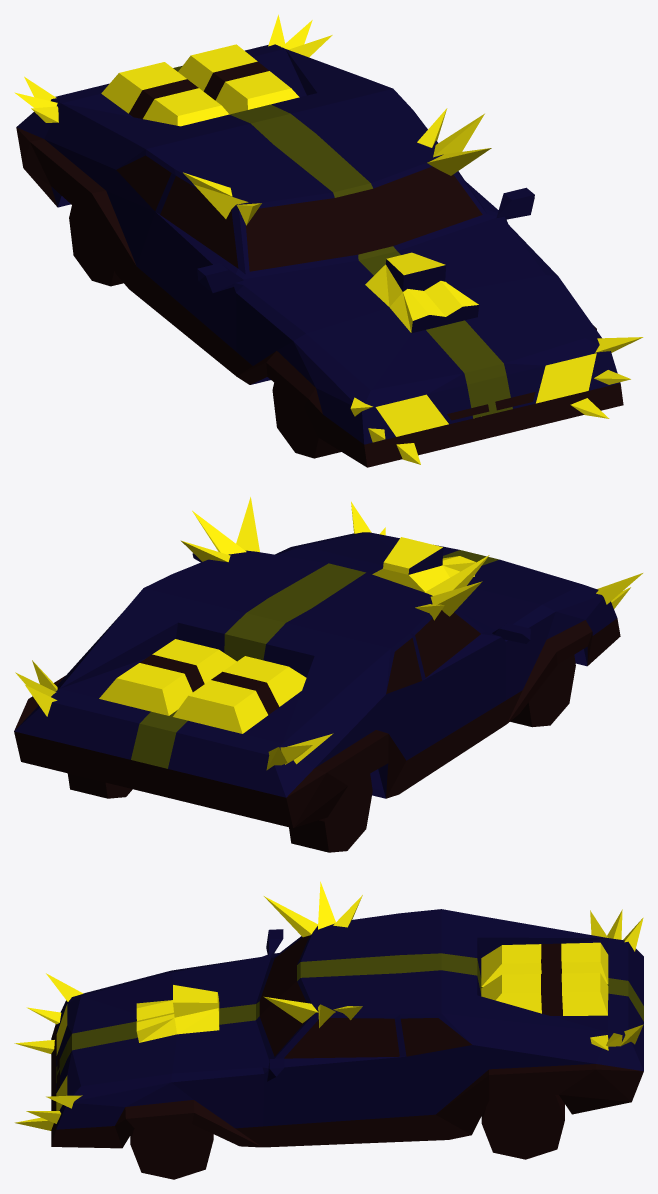
File: car.fbx
3 renders of one model, top to bottom at view 1: azimuth 30°, elevation 25°; view 2: azimuth 150°, elevation 25°; view 3: azimuth 270°, elevation 25°, orthographic. The views are drawn at different scales.
Visible parts, largest first — view 1: car, spikes, wheels; view 2: car, wheels, spikes; view 3: car, wheels, spikes.
Boxes of the visible parts, box(x1,y1,x2,y2) form: car: box(16, 44, 623, 467); spikes: box(14, 14, 643, 464); wheels: box(69, 205, 341, 458); car: box(14, 532, 620, 828); wheels: box(67, 655, 575, 852); spikes: box(15, 497, 642, 770); car: box(51, 909, 643, 1148); wheels: box(130, 1095, 564, 1179); spikes: box(14, 881, 643, 1130).
Size of the model in its own units: 631 by 1183 by 377.
